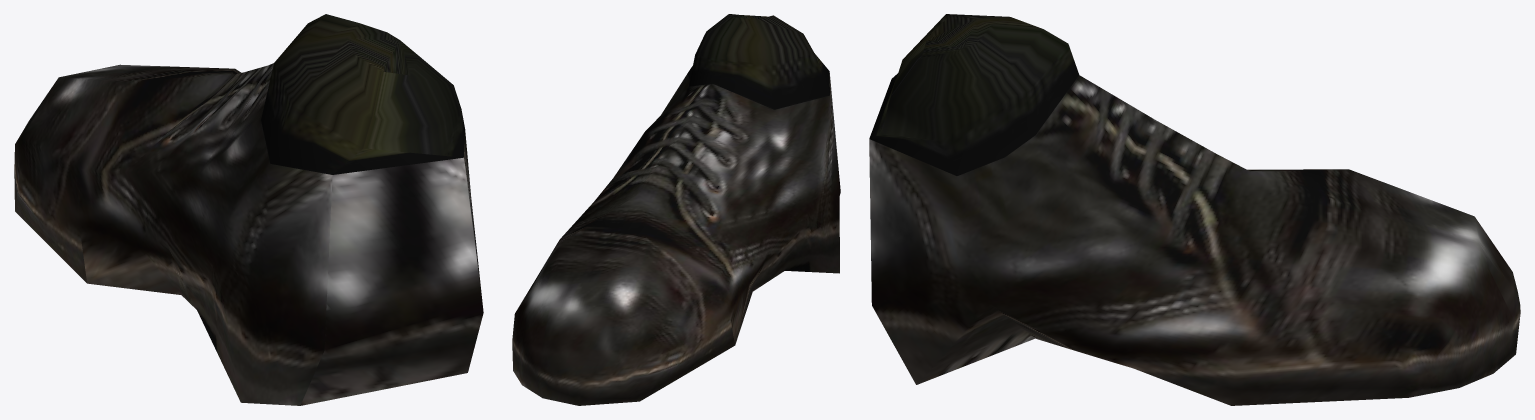
File: RightFoot.dae
The picture shows the model from 3 angles, left to right: view 1: azimuth 30°, elevation 25°; view 2: azimuth 150°, elevation 25°; view 3: azimuth 270°, elevation 25°; orthographic projection. The views are drawn at different scales.
Parts seen in each view (by area): view 1: H_DDS_LowRes_008; view 2: H_DDS_LowRes_008; view 3: H_DDS_LowRes_008.
Boxes of the visible parts, <box> form: H_DDS_LowRes_008: <box>14,14,483,405</box>; H_DDS_LowRes_008: <box>512,14,840,405</box>; H_DDS_LowRes_008: <box>869,14,1520,405</box>.
Bounding box in the file's own units: 0.1117 × 0.2532 × 0.1409.
Materials: 1 (1 with a texture image).
